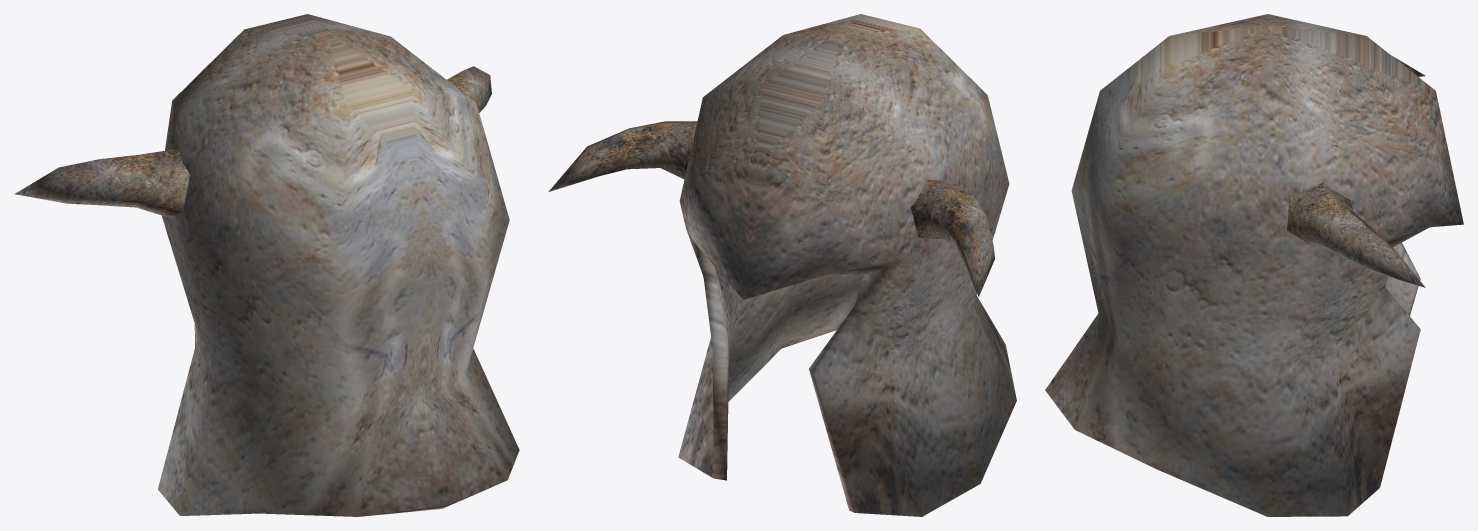
Rendered from head_helm2.glb.
3 views of the same model, side by side, from view 1: azimuth 30°, elevation 25°; view 2: azimuth 150°, elevation 25°; view 3: azimuth 270°, elevation 25° (orthographic). The views are drawn at different scales.
Visible parts, largest first — view 1: helm2; view 2: helm2; view 3: helm2.
Boxes of the visible parts, x1,y1,x2,y2 form: helm2: [14, 14, 519, 516]; helm2: [548, 14, 1016, 516]; helm2: [1045, 14, 1463, 516].
Size of the model in its own units: 0.3296 by 0.3114 by 0.2754.
Materials: 1 (1 with a texture image).
